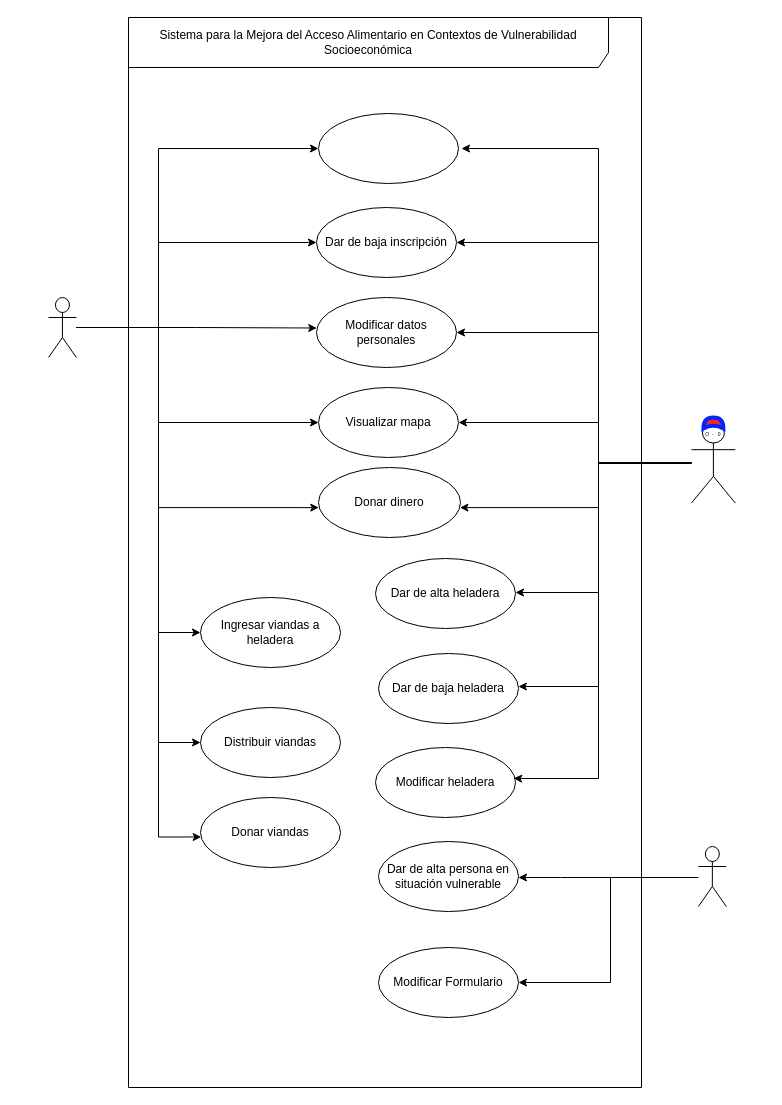
This 782x1105 diagram has some shape labels left out. Each missing label, with the box of its shape:
Administrador ONG: (697, 846, 726, 906)
Persona humana: (48, 296, 76, 358)
Persona jurídica: (690, 422, 735, 503)
Realizar inscripción: (318, 112, 458, 184)
